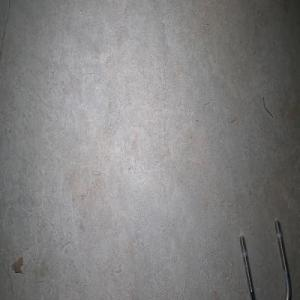ClampPart: (238, 219, 292, 300)
